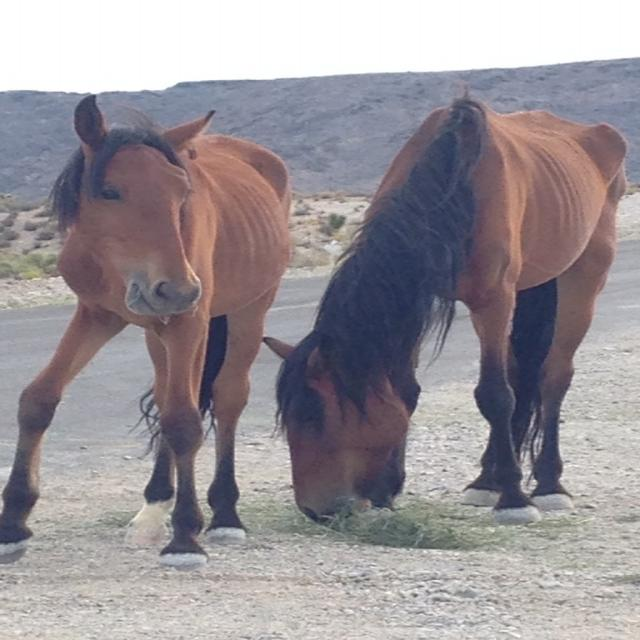Horse: (262, 92, 630, 528), (0, 96, 298, 573)
